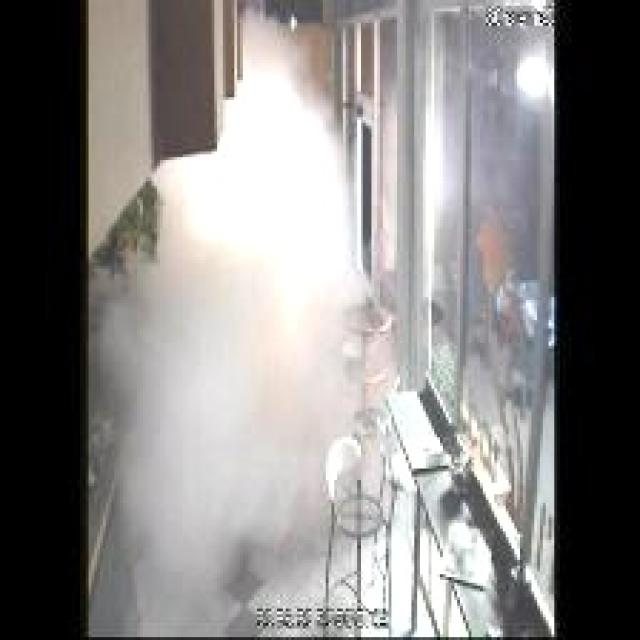smoke: (107, 26, 382, 508)
